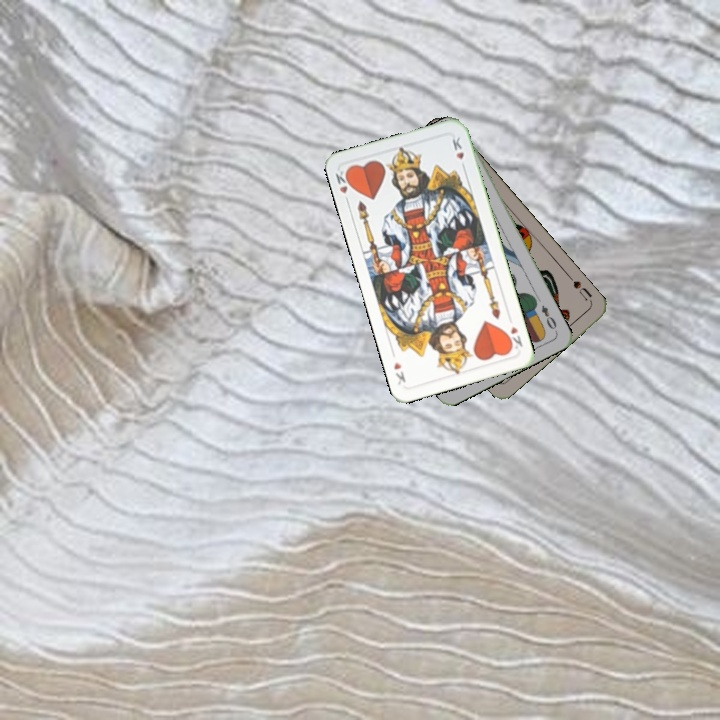EO: (537, 301, 560, 335)
HK: (331, 165, 355, 207), (502, 322, 525, 352)
SU: (564, 271, 595, 303)
